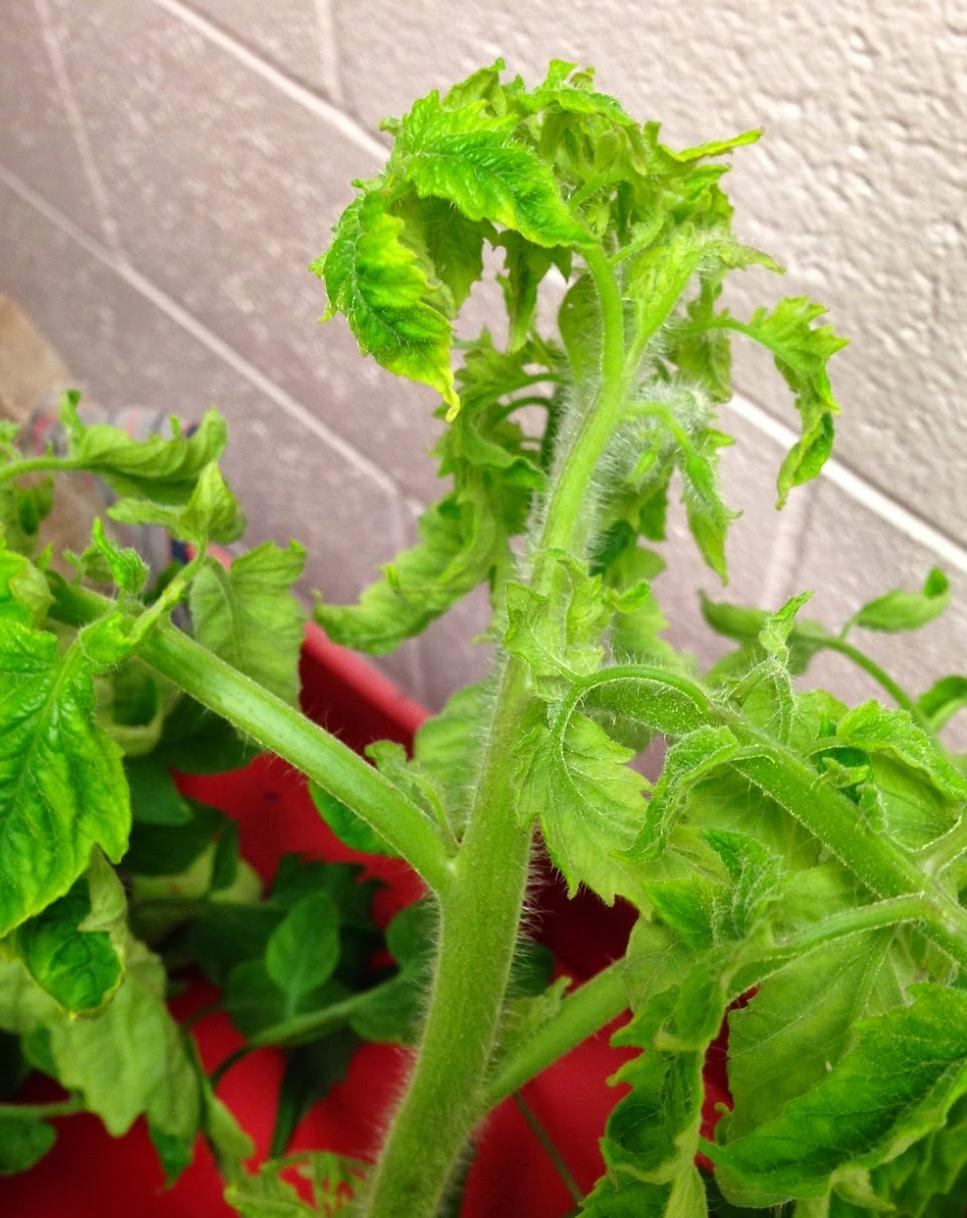Tomato leaf yellow virus: (492, 944, 739, 1218), (721, 974, 967, 1218), (0, 589, 158, 957), (305, 186, 487, 455), (517, 685, 711, 915), (403, 68, 610, 281)
